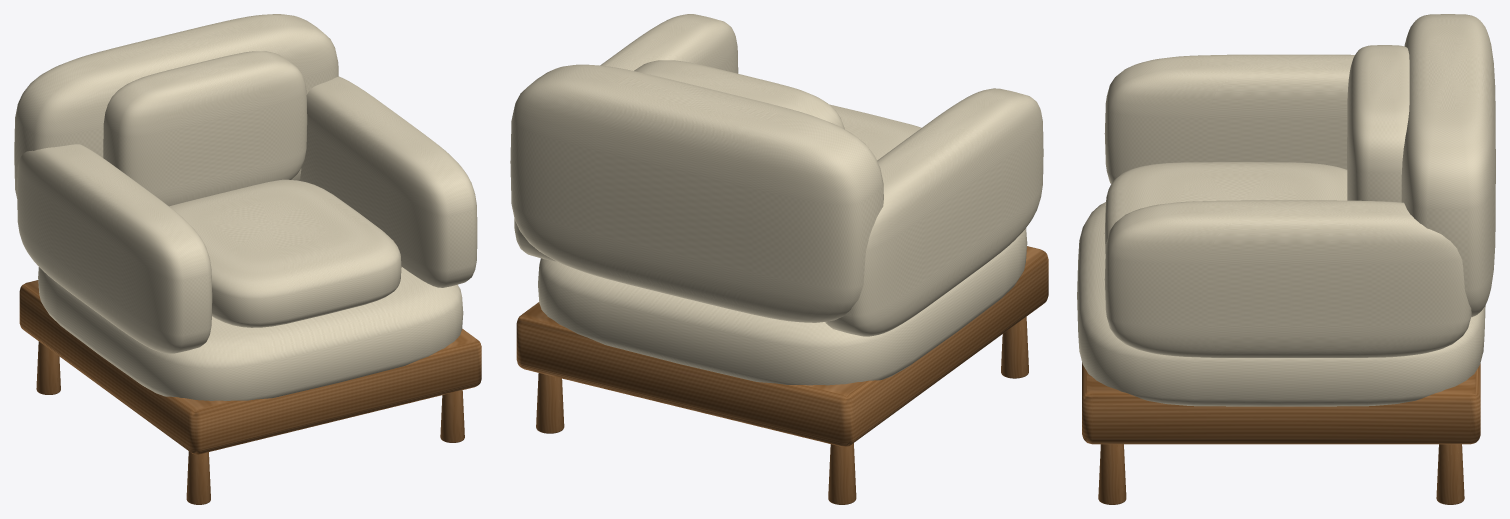
File: armchair.glb
The picture shows the model from 3 angles, left to right: view 1: azimuth 30°, elevation 25°; view 2: azimuth 150°, elevation 25°; view 3: azimuth 270°, elevation 25°; orthographic projection. The views are drawn at different scales.
Parts seen in each view (by area): view 1: armchair-mesh; view 2: armchair-mesh; view 3: armchair-mesh.
Boxes of the visible parts, bbox=[...] form: armchair-mesh: bbox=[14, 14, 481, 504]; armchair-mesh: bbox=[510, 14, 1048, 504]; armchair-mesh: bbox=[1077, 14, 1495, 504].
Size of the model in its own units: 0.85 by 0.8 by 0.85.
2 materials, 2 textured.
